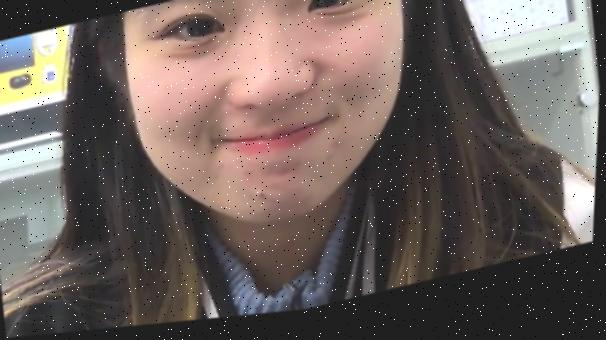eye: (188, 20, 212, 42), (318, 0, 338, 14)
iris: (168, 17, 220, 47), (313, 0, 356, 17)
